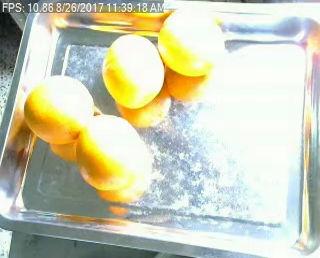Orange: (24, 77, 96, 146)
